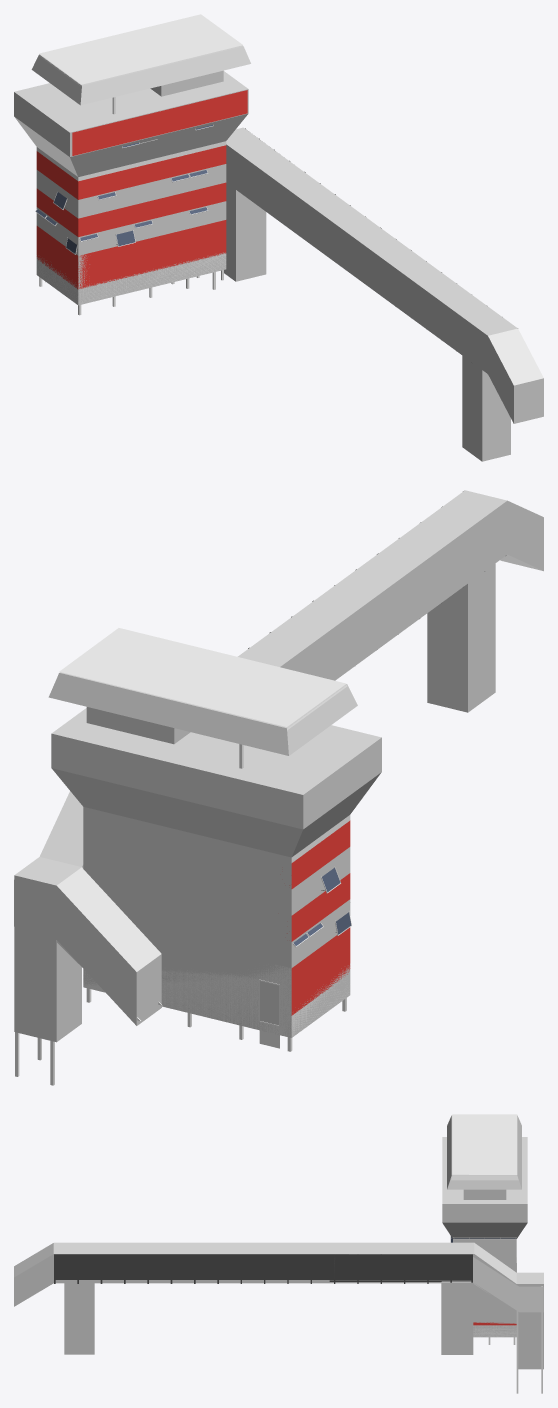
File: controltower.dae
3 renders of one model, top to bottom at view 1: azimuth 30°, elevation 25°; view 2: azimuth 150°, elevation 25°; view 3: azimuth 270°, elevation 25°, orthographic. The views are drawn at different scales.
Parts seen in each view (by area): view 1: Colmesh-1, controltower_a600, controltower_a300; view 2: Colmesh-1, controltower_a300, controltower_a600; view 3: Colmesh-1, controltower_a100, controltower_a300, controltower_a600.
Part boxes in pixels (x1=…): Colmesh-1: x1=14, y1=45, x2=543, y2=461; controltower_a600: x1=35, y1=55, x2=456, y2=315; controltower_a300: x1=36, y1=14, x2=242, y2=288; Colmesh-1: x1=14, y1=490, x2=543, y2=1042; controltower_a300: x1=14, y1=507, x2=441, y2=1051; controltower_a600: x1=14, y1=506, x2=532, y2=1085; Colmesh-1: x1=14, y1=1115, x2=543, y2=1369; controltower_a100: x1=55, y1=1254, x2=471, y2=1279; controltower_a300: x1=54, y1=1114, x2=543, y2=1337; controltower_a600: x1=54, y1=1175, x2=543, y2=1393.
Bounding box in the file's own units: 14.84 × 45.46 × 20.2.
